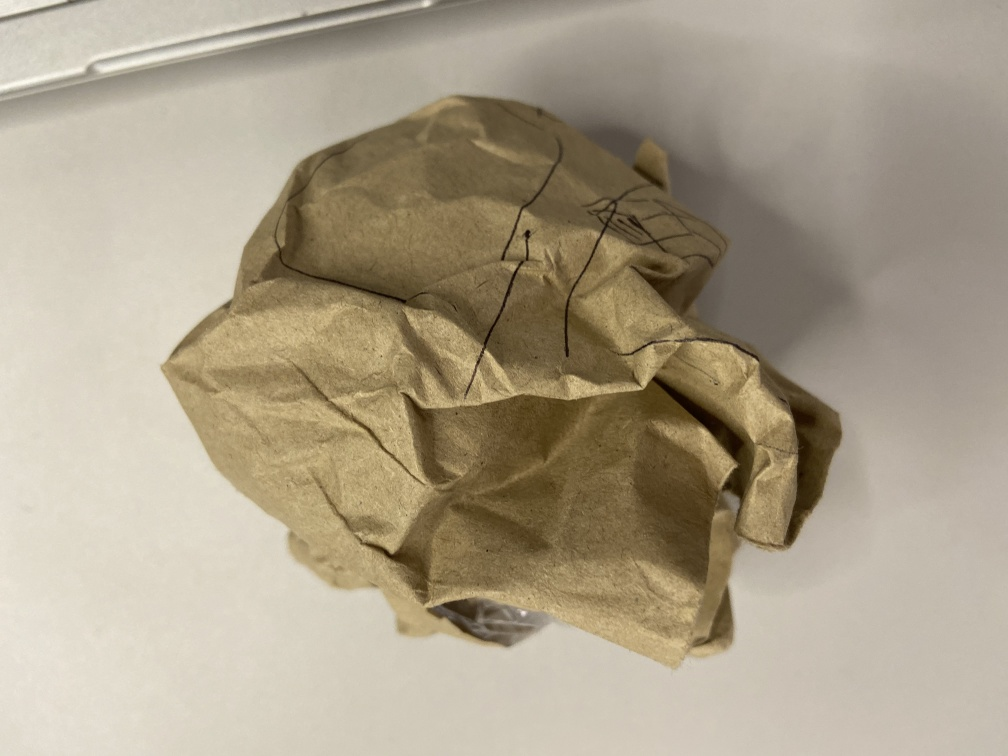paper_brown: (154, 84, 848, 672)
